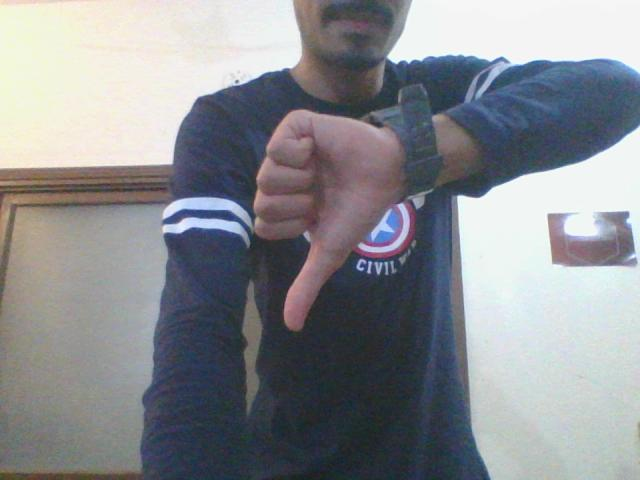thumbs-down: (253, 106, 383, 327)
